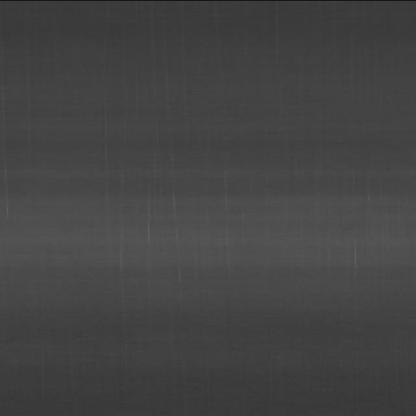waist_folding: (57, 179, 332, 294)
